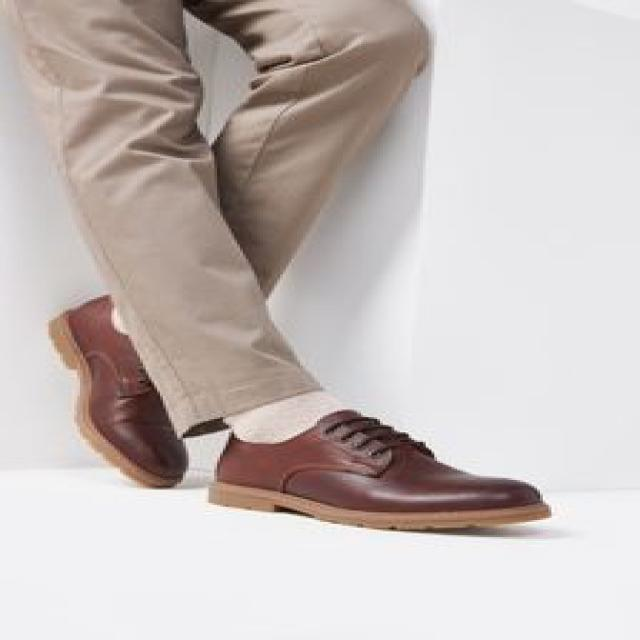shoe: (210, 418, 564, 532), (45, 287, 200, 489)
